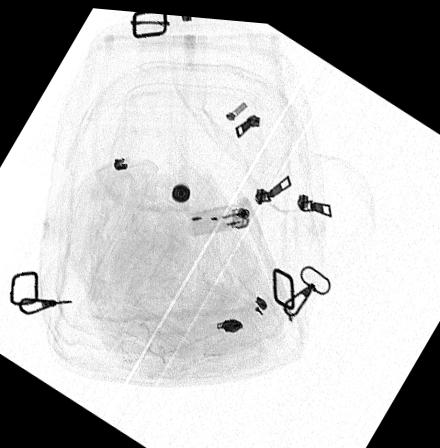Lighter: (189, 197, 251, 231)
